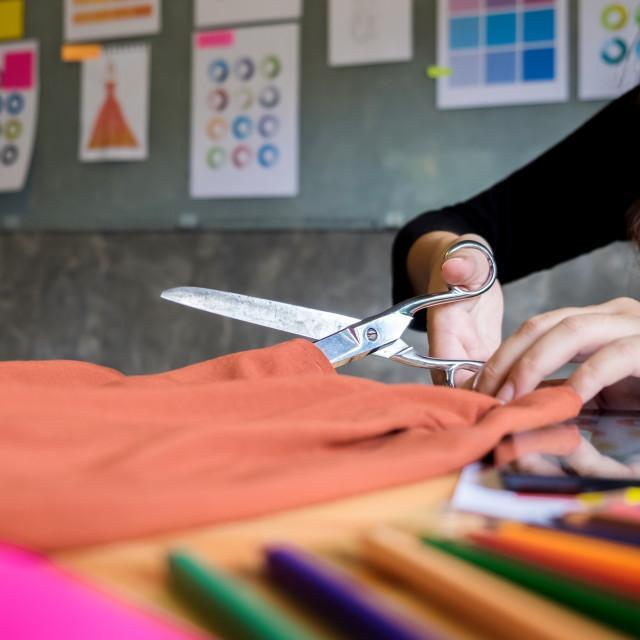tesoura: (156, 228, 508, 427)
